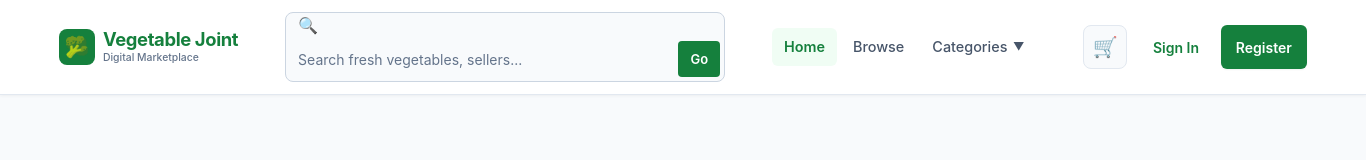
Test: Navbar Component (FE-022, UI-01, UI-07, CART-07) › Search Functionality (UI-01) › displays clear button when input has text and clears on click
Type "Onions" into the search field named "Search vegetables, categories, and sellers" at (486, 59), box [298, 37, 674, 81]
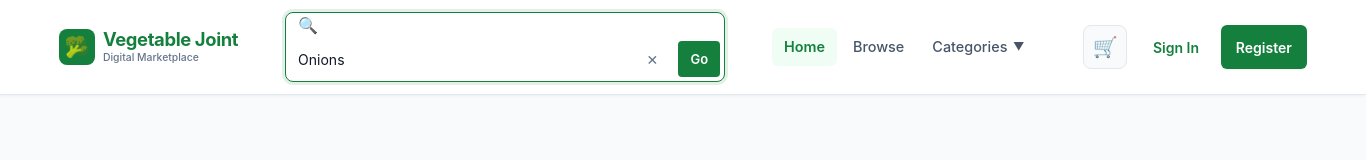
Expected: the button named "Clear search query" is shown
Click the button named "Clear search query" at (652, 59), box [630, 37, 674, 81]
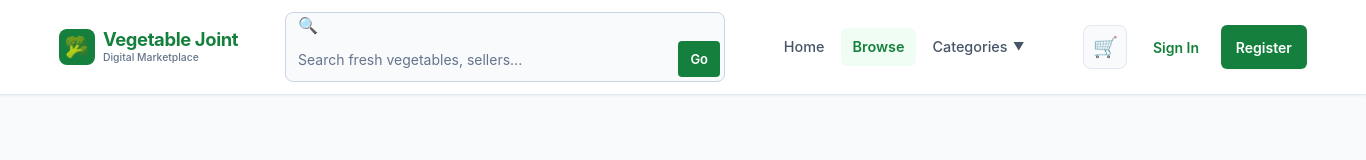
Expected: the search field named "Search vegetables, categories, and sellers" is empty, [298, 37, 674, 81]
